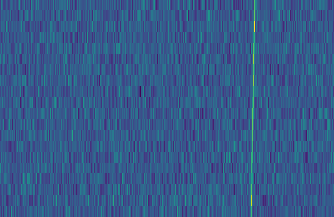signal: (247, 0, 260, 217)
